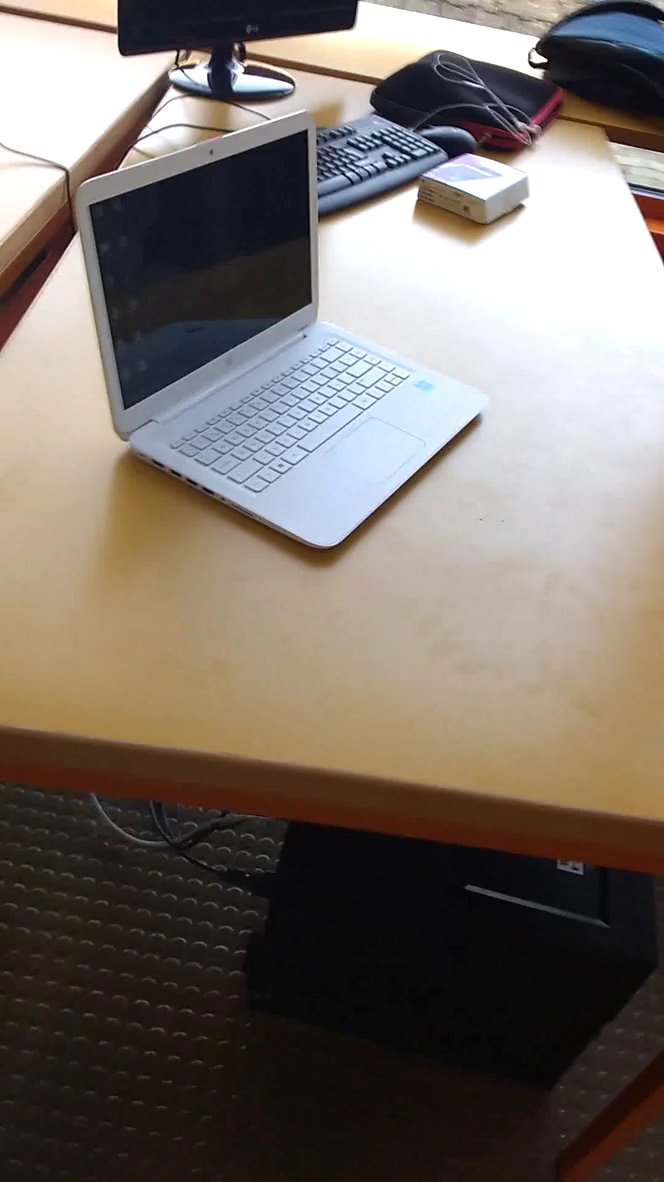laptop: (65, 106, 497, 578)
